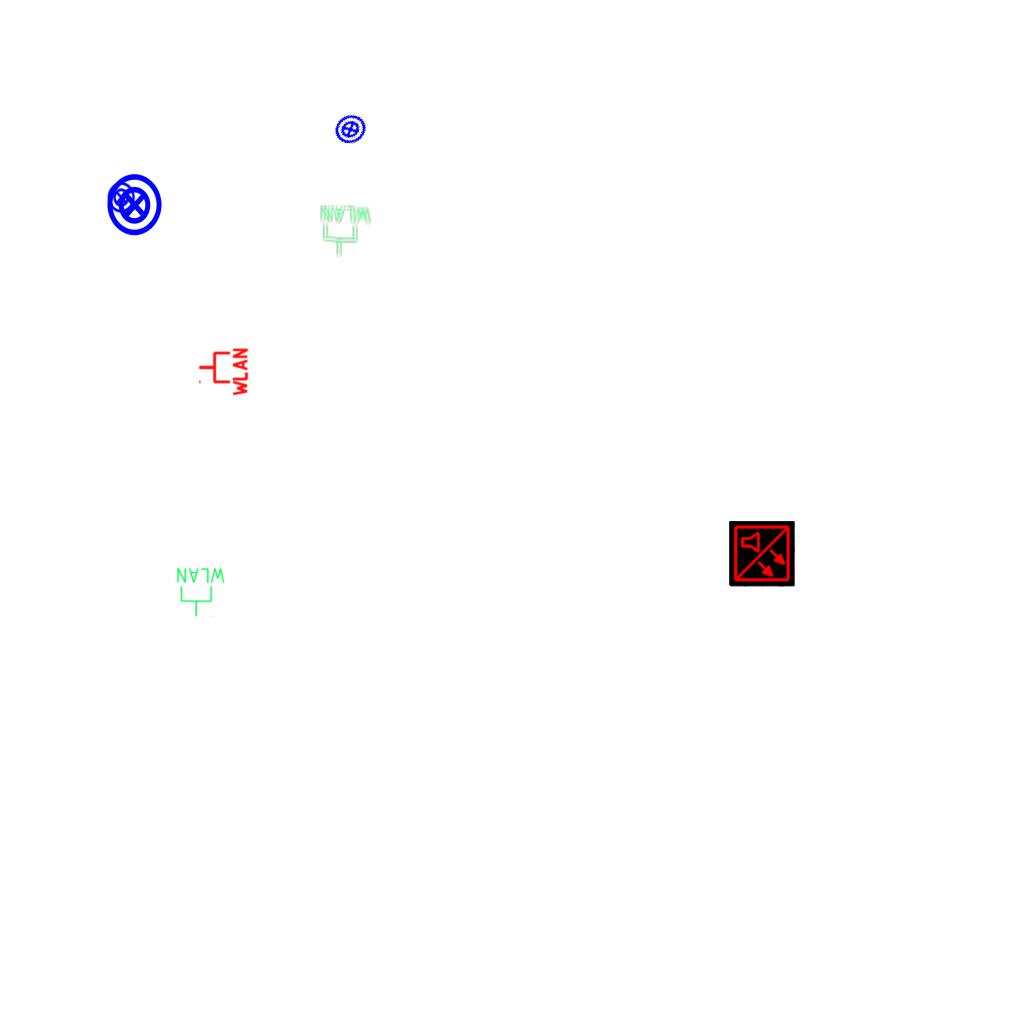OKW_Multisensormelder_(Kombination_optischer_Rauch-Kahlenmonoxid_Waerme-Melder): (729, 521, 795, 587)
Taster_beleuchtet: (102, 172, 168, 238), (328, 107, 373, 152), (105, 181, 138, 214)
WLAN: (317, 203, 373, 259), (197, 346, 249, 398), (175, 566, 227, 618)
